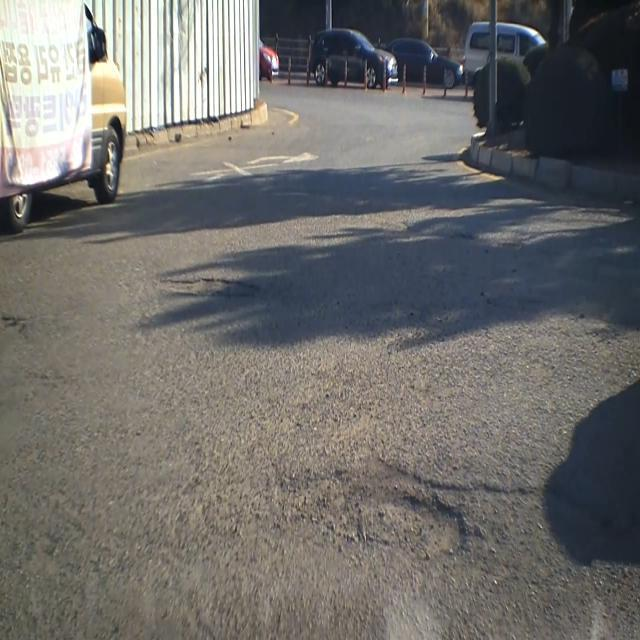pothole: (322, 485, 474, 566)
